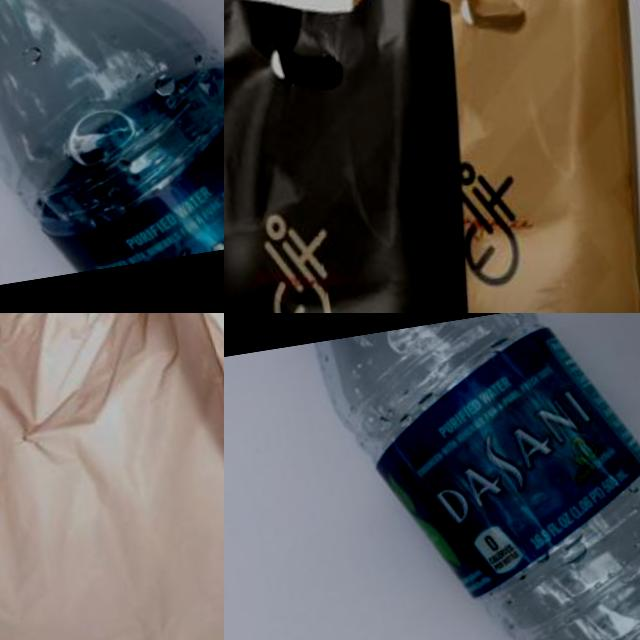garrafa plástica: (309, 313, 640, 640), (0, 0, 224, 288)
sacola plástica: (337, 0, 640, 313), (224, 0, 525, 313), (0, 313, 224, 640)
